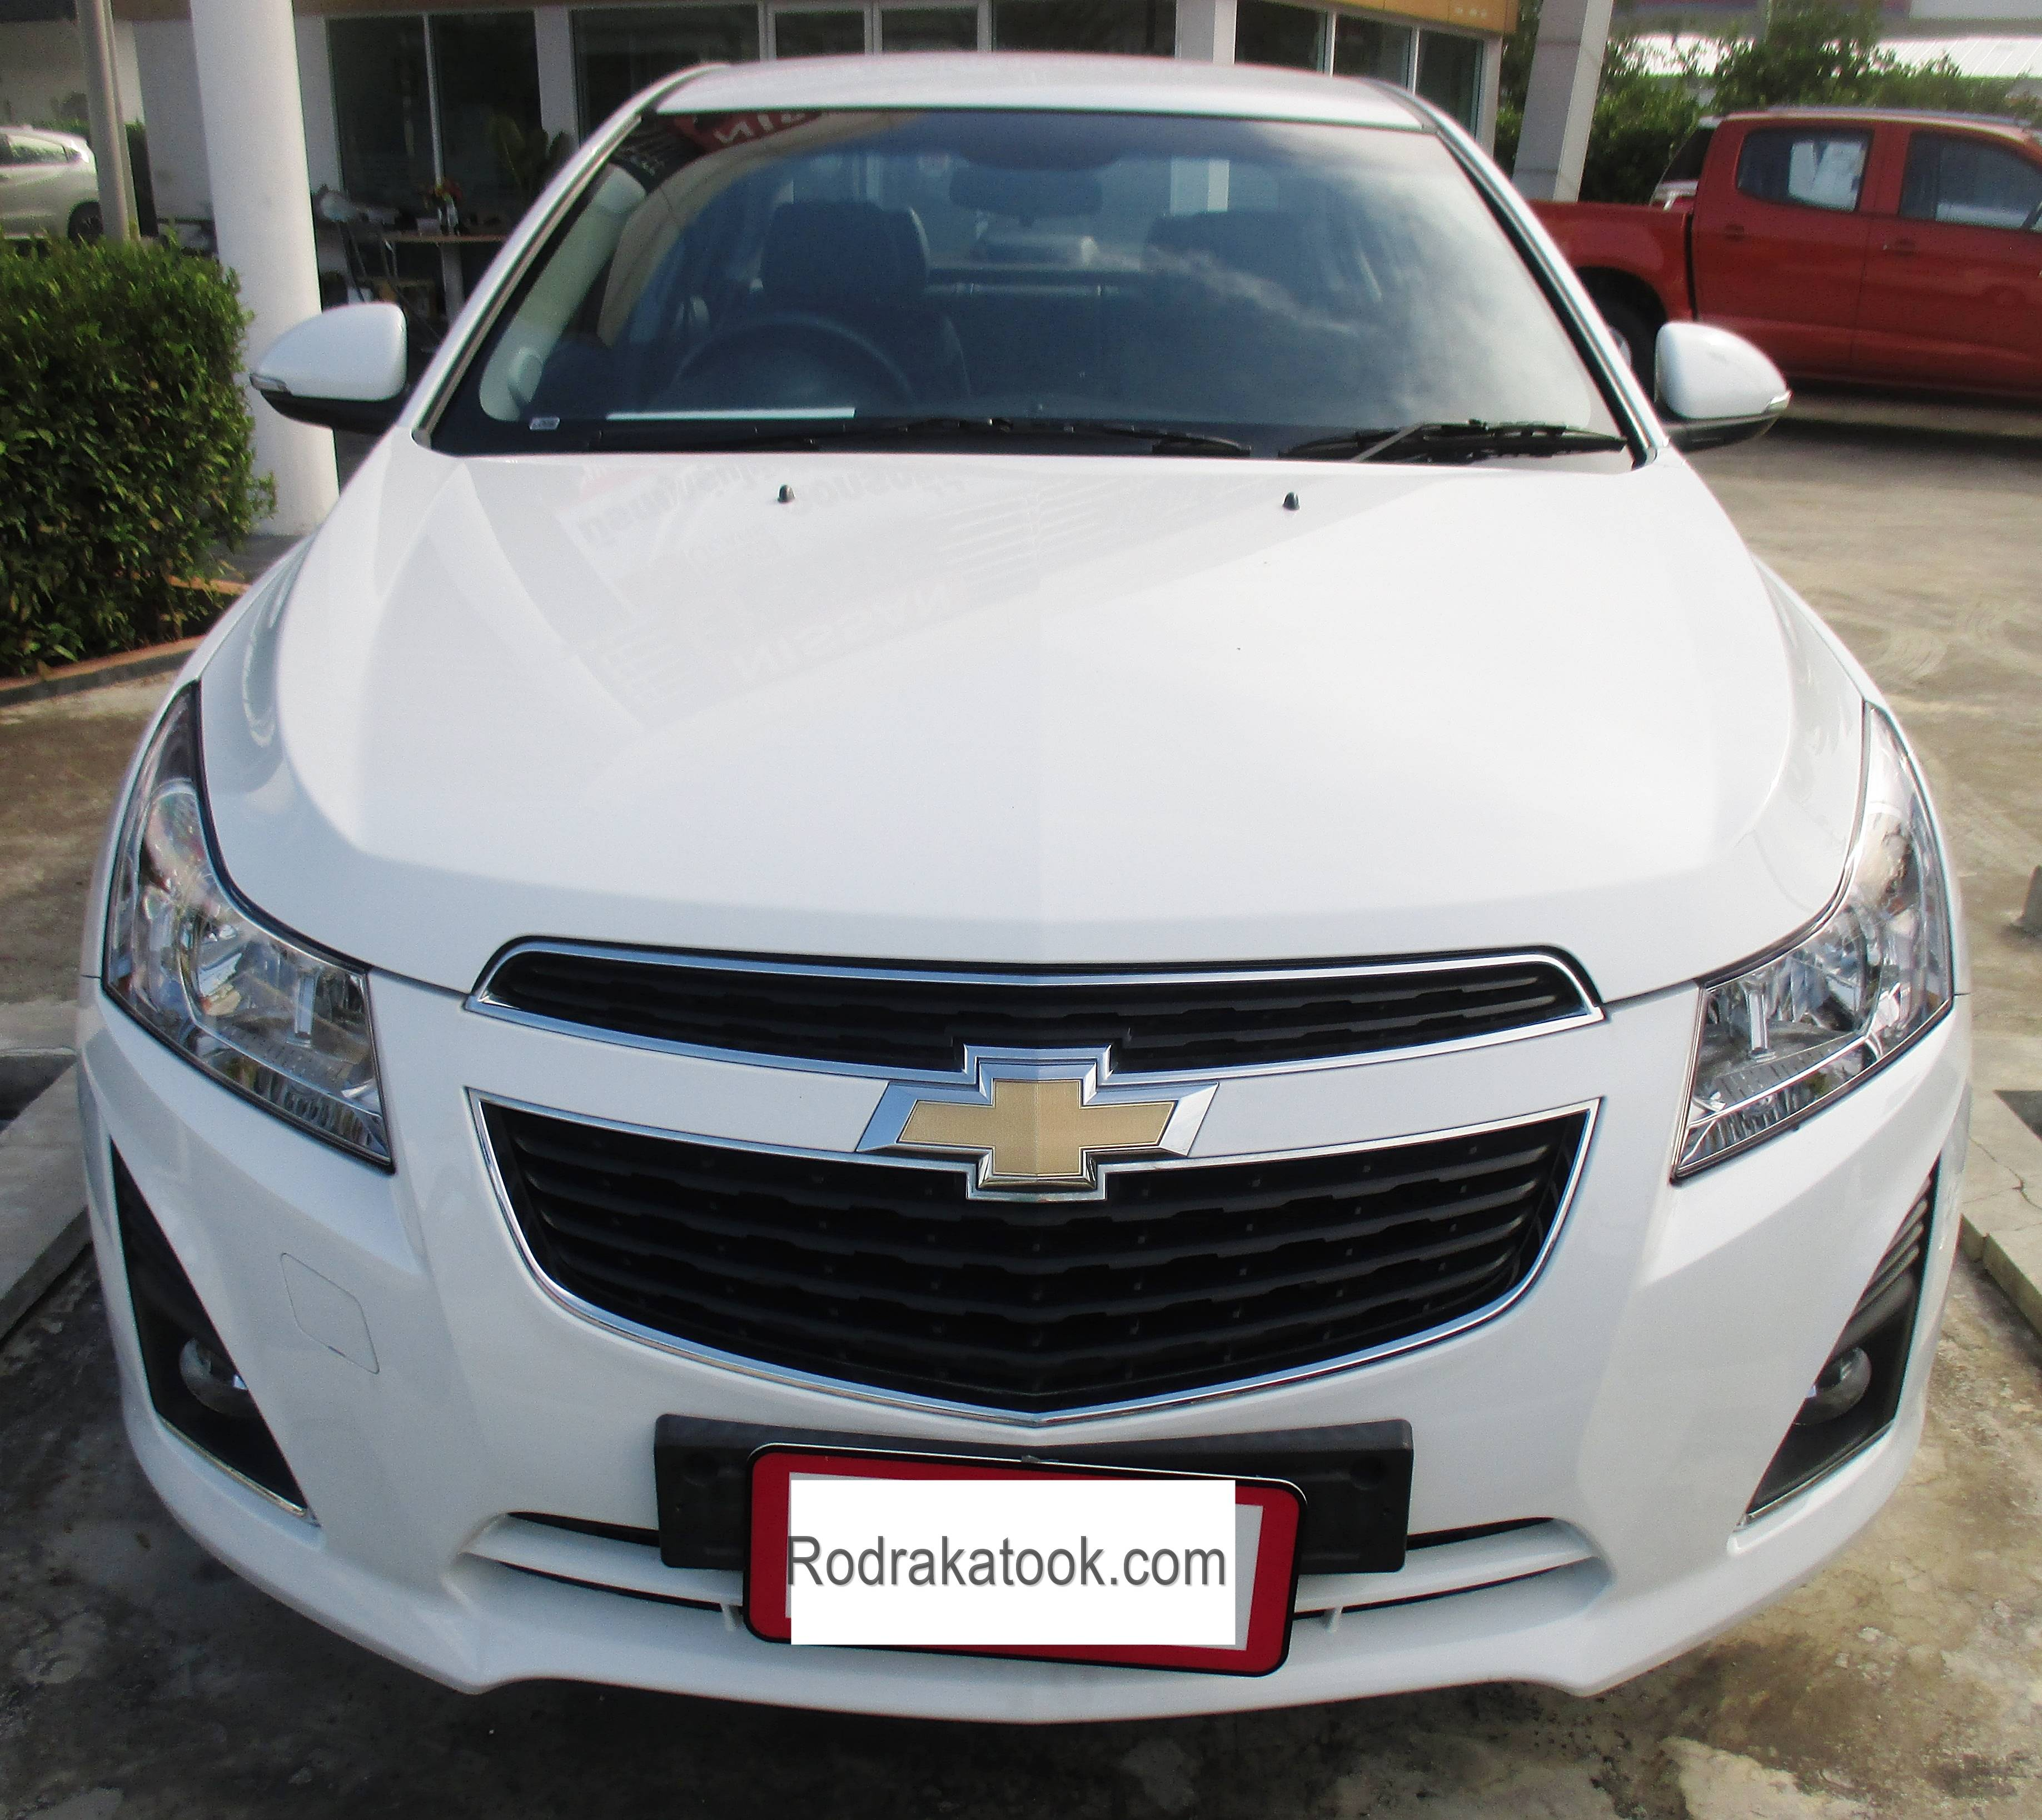sedan: (63, 42, 1979, 1741)
